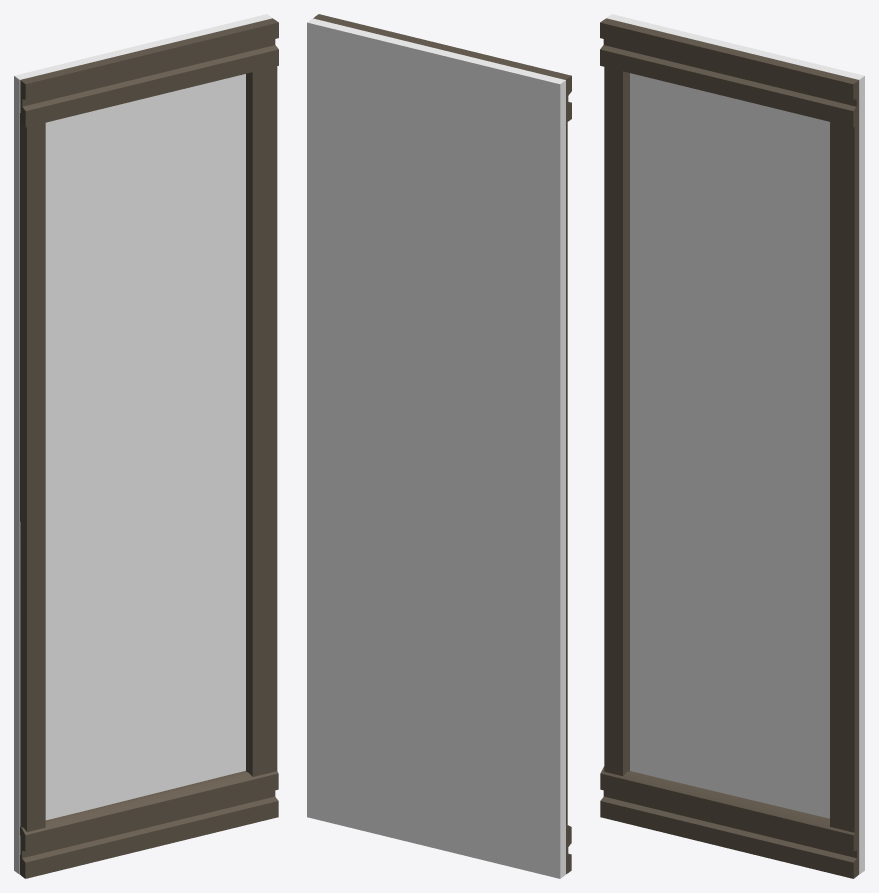
Rendered from WALL_03_1.fbx.
The picture shows the model from 3 angles, left to right: view 1: azimuth 30°, elevation 25°; view 2: azimuth 150°, elevation 25°; view 3: azimuth 330°, elevation 25°; orthographic projection.
Parts seen in each view (by area): view 1: WALL_03_1; view 2: WALL_03_1; view 3: WALL_03_1.
Part boxes in pixels (x1,y1,x2,y2): WALL_03_1: (14,14,278,878); WALL_03_1: (307,14,571,878); WALL_03_1: (600,14,864,878).
Bounding box in the file's own units: 100 × 300 × 8.
